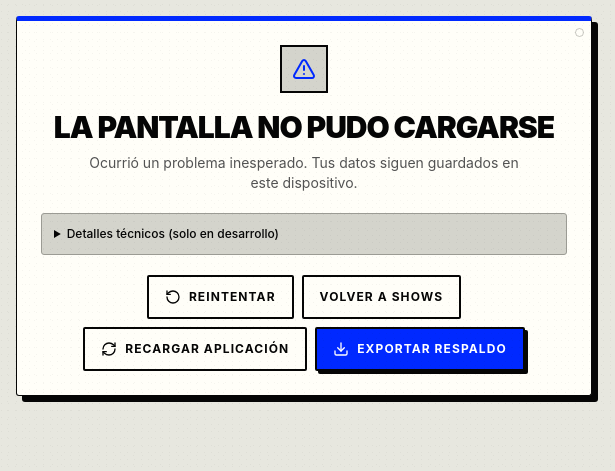
it: ErrorBoundary › a failed backup export shows an understandable message and keeps recovery actions available, without deleting data
This screenshot has width=615, height=471.
Click the button "Exportar respaldo". click: (420, 349)
box: [315,327,525,371]
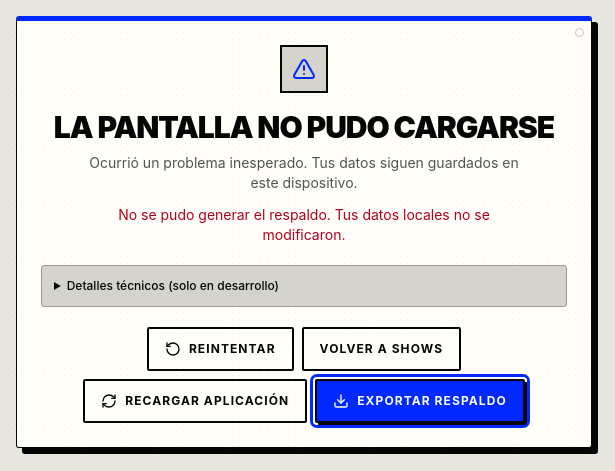
Expected: the button "Volver a Shows" is shown, [302,327,461,371]
Now the message shows "No se pudo generar el respaldo", box [118,206,490,243]
